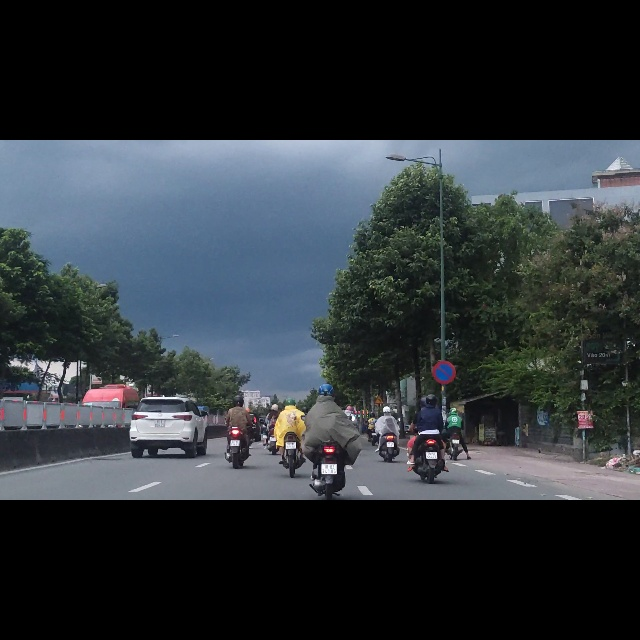bien_cam: (432, 392, 455, 433), (374, 454, 384, 470)
